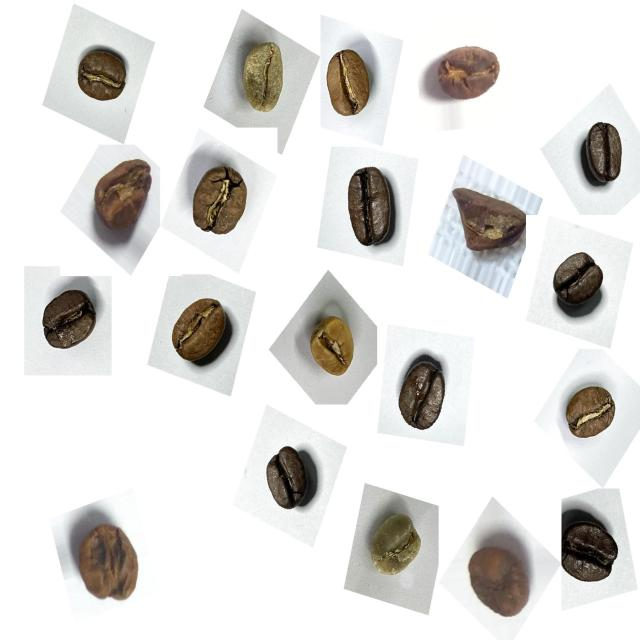bad: (63, 512, 150, 616), (458, 528, 538, 628), (450, 178, 532, 271), (83, 150, 157, 245), (426, 36, 506, 116)
dark: (550, 501, 628, 598), (332, 157, 408, 256), (389, 348, 462, 444), (34, 282, 108, 370), (254, 435, 323, 522), (544, 238, 614, 323), (569, 114, 635, 199)
green: (228, 30, 298, 130), (360, 502, 431, 594)
light: (300, 306, 367, 391)
medium: (181, 155, 259, 248), (160, 286, 238, 378), (319, 39, 383, 130), (556, 374, 628, 452), (68, 38, 136, 114)
